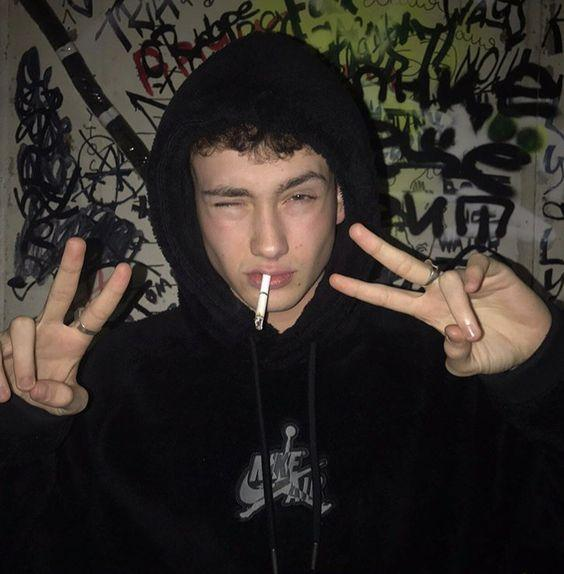cigarette: (254, 273, 271, 331)
